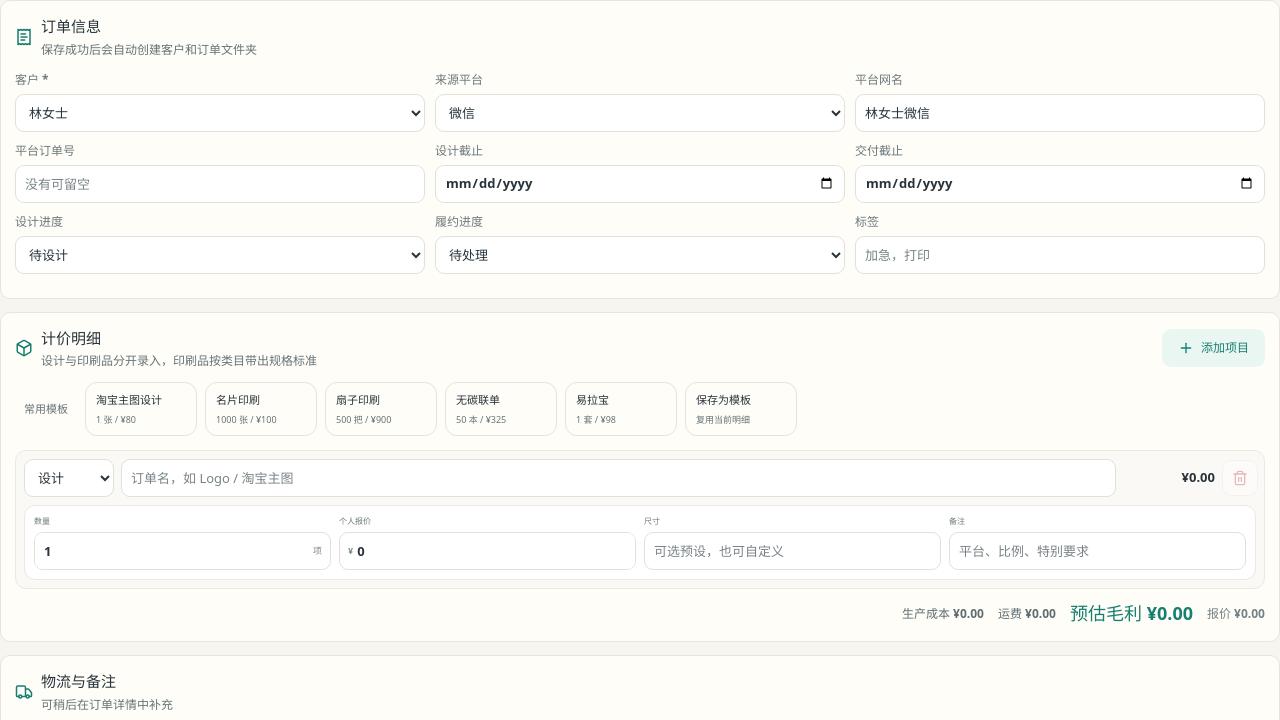
Test: OrderForm › shows a size field for print order items
Step 1. Select "印刷品" in the dropdown named "项目类型" → (69, 478), box [24,459,114,497]
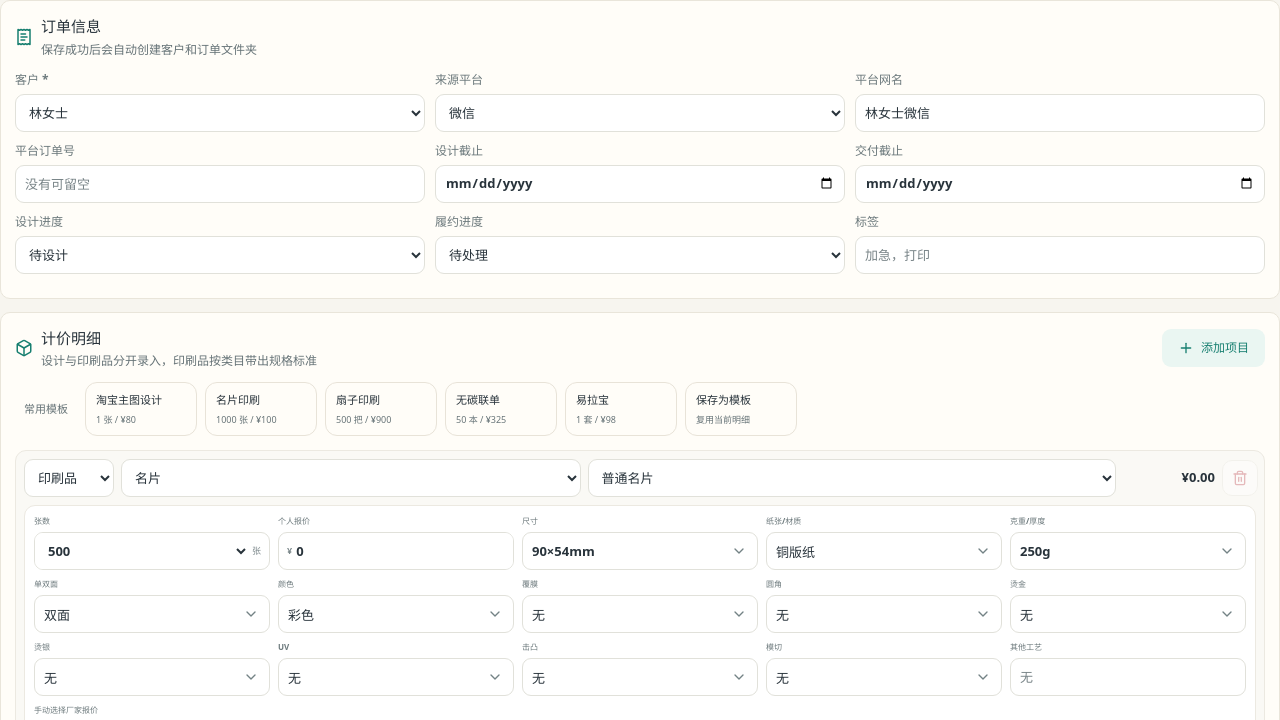
Result: the dropdown named "印刷类目" shows "名片" at [121,459,580,497]
Result: the dropdown named "印刷小类" shows "普通名片" at [588,459,1116,497]
Result: the dropdown labelled "尺寸" is shown at [522,532,758,570]
